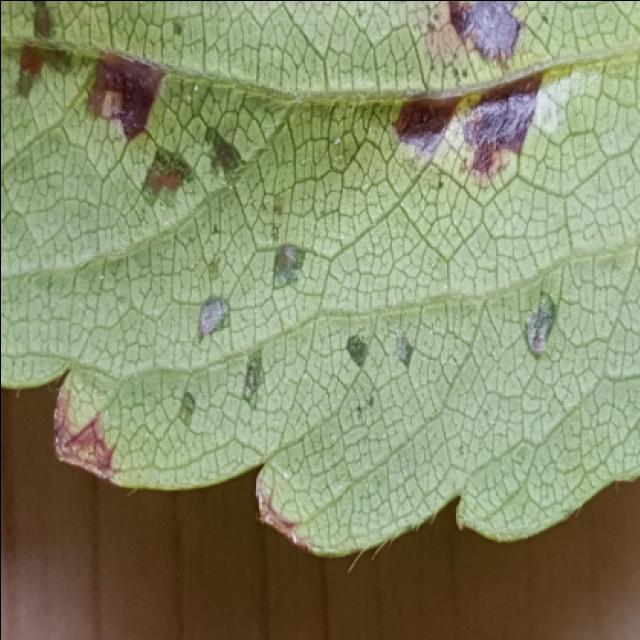Angular Leafspot: (2, 2, 601, 555)
